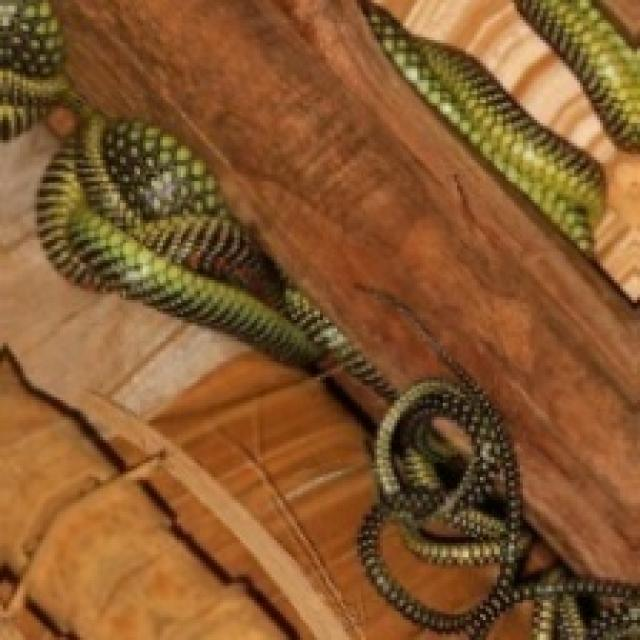paradise tree snake: (57, 0, 637, 580), (0, 126, 460, 637)
